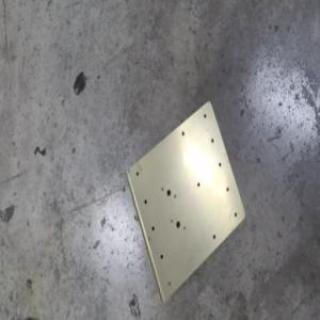MetalSheettrack_idkeyframe: (124, 100, 245, 304)
